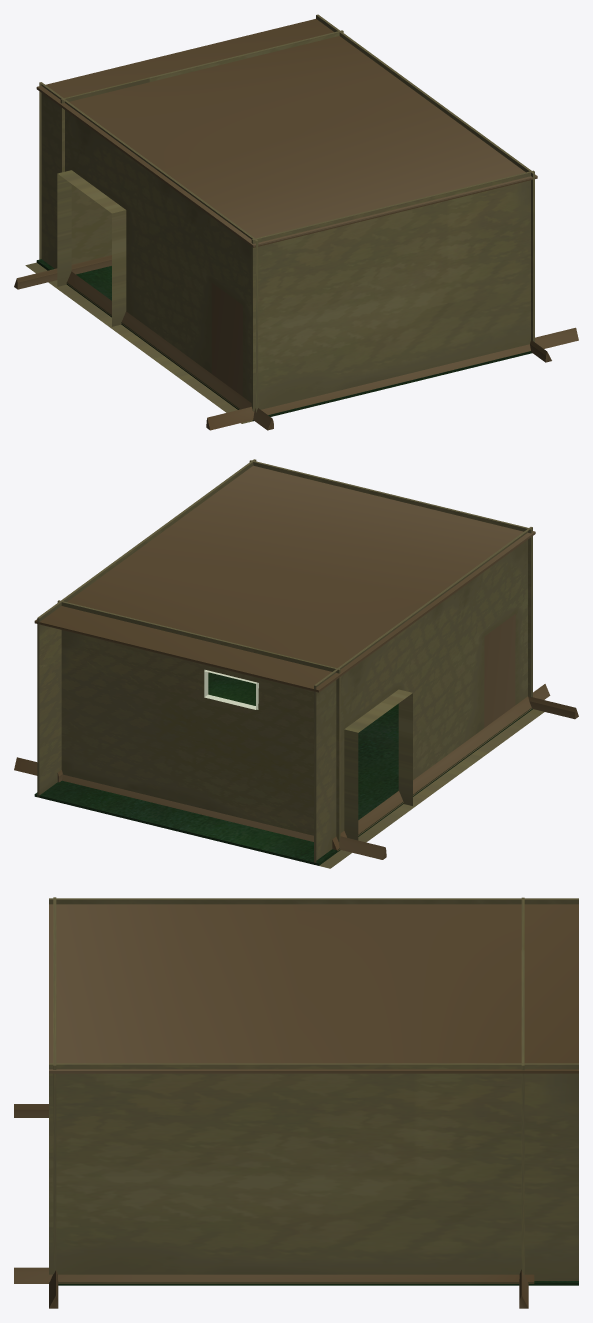
The model's file is Room.fbx.
The picture shows the model from 3 angles, top to bottom: view 1: azimuth 30°, elevation 25°; view 2: azimuth 150°, elevation 25°; view 3: azimuth 270°, elevation 25°; orthographic projection. The views are drawn at different scales.
Parts seen in each view (by area): view 1: techo, Pared izq, pared frente, pared der, borde izq, borde frente, Puerta, piso, Pared fondo, borde der; view 2: techo, pared der, pared frente, piso, Pared fondo, Puerta, borde frente, borde der, Pared izq, borde izq, Ventana; view 3: Pared fondo, techo, borde atras, pared frente, piso, pared der, Pared izq.
Part boxes in pixels (x1,y1,x2,y2): techo: (36, 19, 537, 247); Pared izq: (251, 170, 534, 411); pared frente: (25, 82, 258, 423); pared der: (60, 30, 343, 264); borde izq: (206, 327, 578, 430); borde frente: (66, 271, 273, 430); Puerta: (211, 283, 242, 396); piso: (36, 259, 532, 421); Pared fondo: (316, 14, 534, 341); borde der: (14, 255, 111, 289); techo: (34, 465, 535, 692); pared der: (57, 600, 340, 841); pared frente: (314, 527, 544, 868); piso: (34, 672, 532, 865); Pared fondo: (37, 459, 256, 797); Puerta: (484, 614, 515, 727); borde frente: (332, 684, 550, 851); borde der: (14, 757, 386, 859); Pared izq: (249, 460, 532, 697); borde izq: (528, 697, 578, 719); Ventana: (204, 669, 258, 709); Pared fondo: (49, 1063, 578, 1280); techo: (49, 904, 578, 1073); borde atras: (14, 1267, 534, 1283); pared frente: (49, 898, 578, 904); piso: (49, 1281, 578, 1285); pared der: (521, 897, 524, 1275); Pared izq: (53, 897, 56, 1274).
Bounding box in the file's own units: 9328 × 4336 × 10127.
Materials: 13 (11 with a texture image).
